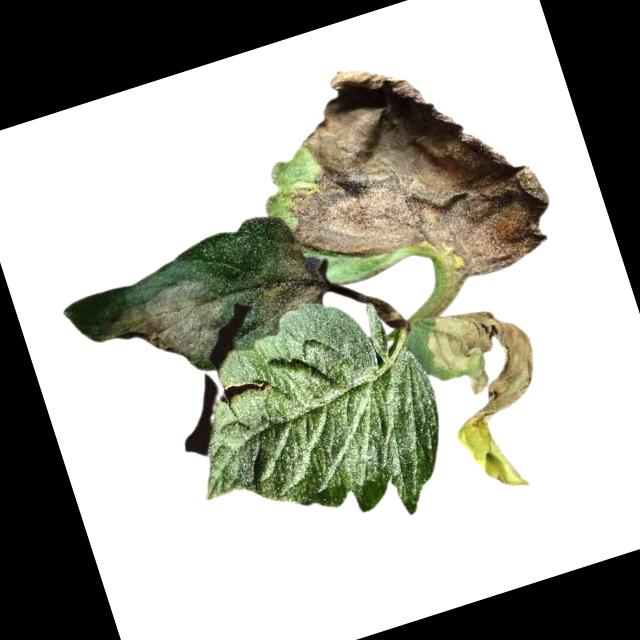Late_blight: (249, 21, 566, 328), (421, 290, 575, 501), (94, 268, 240, 389), (230, 214, 342, 336)
healthy: (158, 274, 466, 573)
